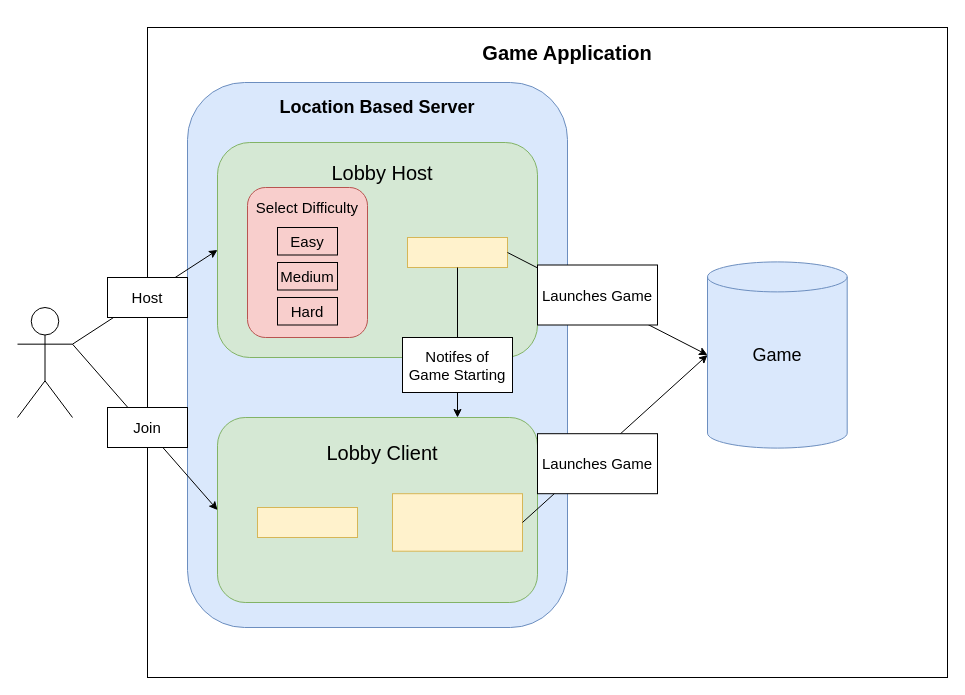
The diagram is 965 pixels wide and 695 high, and some of its shapes have lost their labels. The box of each missing label's shape, as (x1, y1, x2, y2) in pixels:
Gets Notified of Game Starting: (392, 493, 522, 551)
Ready Up: (256, 506, 358, 538)
Start Game: (406, 236, 508, 268)
User: (16, 306, 72, 418)
